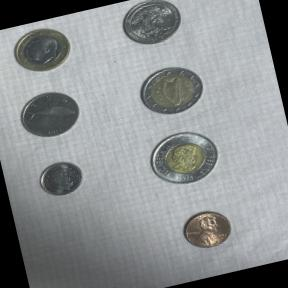coin: (138, 119, 230, 194), (132, 55, 214, 126), (11, 83, 88, 150), (6, 18, 79, 80), (112, 0, 189, 54), (172, 200, 240, 260), (30, 153, 90, 204)
